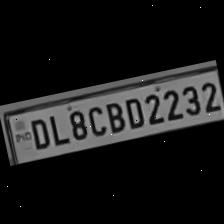2: (194, 76, 220, 114), (138, 89, 164, 126), (158, 84, 184, 121)
3: (176, 80, 202, 117)
8: (62, 105, 89, 142)
B: (100, 96, 125, 134)
C: (81, 100, 107, 138)
D: (22, 113, 50, 151), (119, 92, 145, 130)
L: (43, 108, 67, 146)
